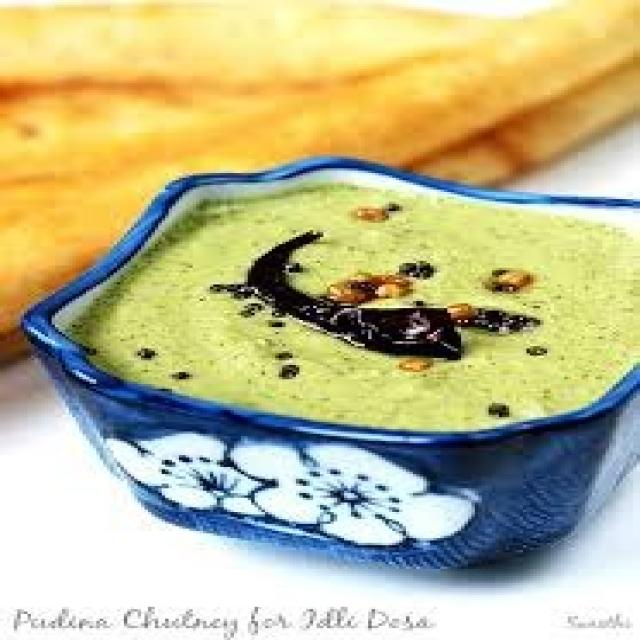puthina chutney: (88, 158, 640, 454)
